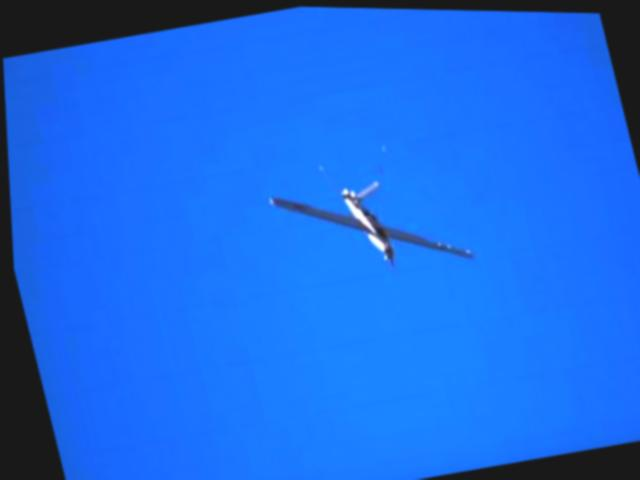uav: (254, 124, 475, 294)
